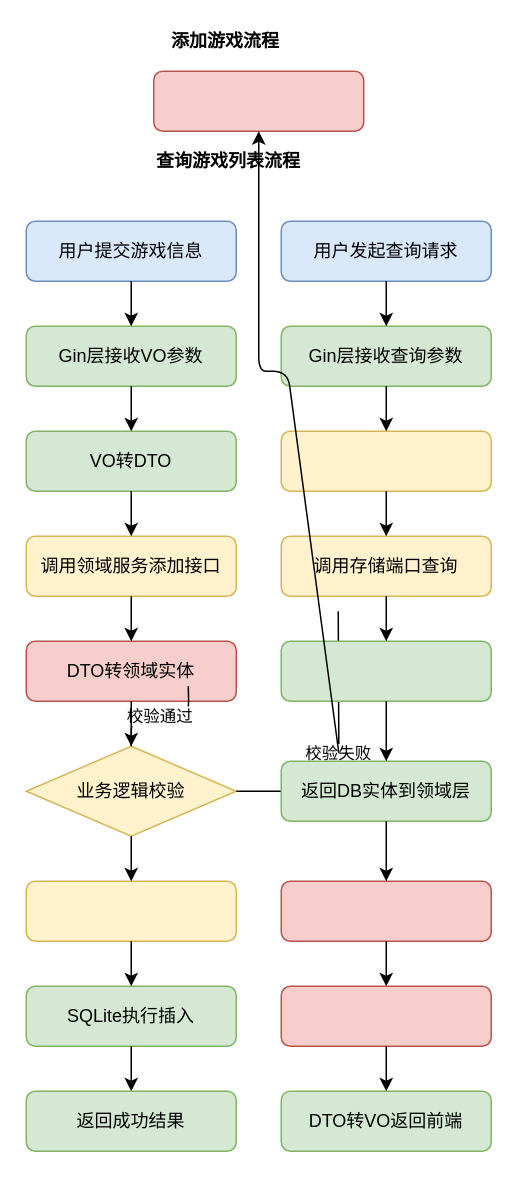
Some shapes in this 518 by 1178 pixel diagram are drawn without their labels. The box of each missing label's shape, as (x1, y1, x2, y2) in pixels:
SQLite查询数据: (280, 640, 491, 701)
实体转DTO返回: (280, 985, 491, 1046)
按InsertTime降序排序: (280, 880, 491, 941)
调用存储端口保存: (25, 880, 236, 941)
调用领域服务查询接口: (280, 430, 491, 491)
返回错误信息: (152, 70, 364, 131)
